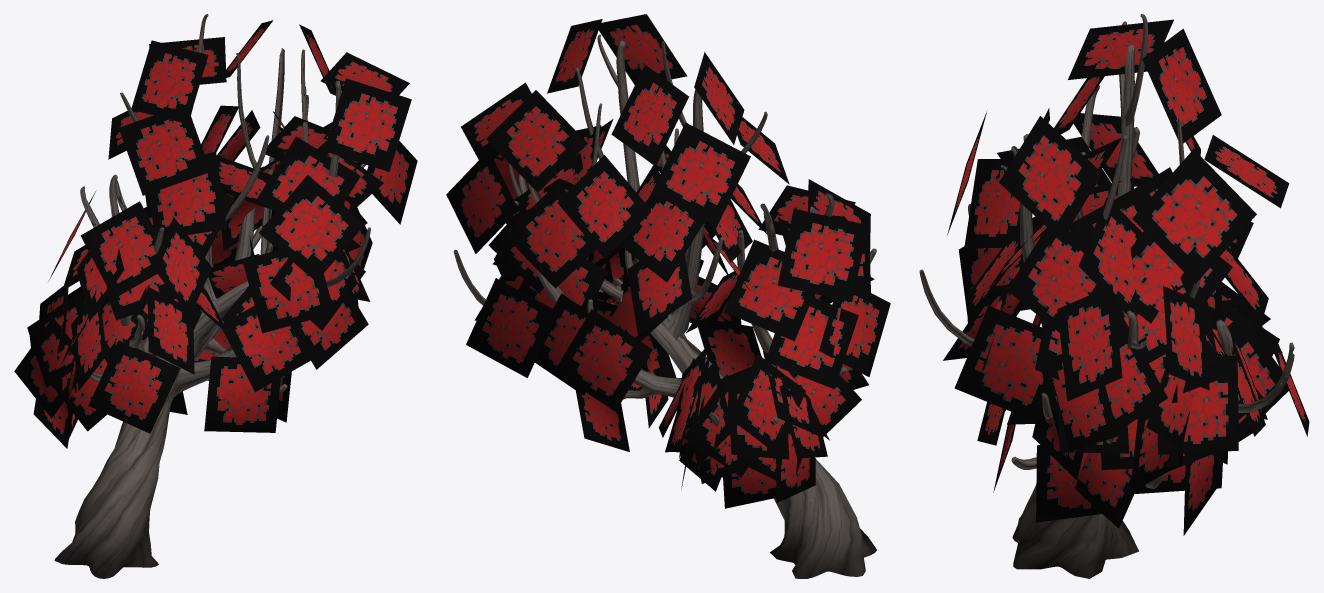
The model's file is arbre-tordu.lod1.glb.
The picture shows the model from 3 angles, left to right: view 1: azimuth 30°, elevation 25°; view 2: azimuth 150°, elevation 25°; view 3: azimuth 270°, elevation 25°; orthographic projection. The views are drawn at different scales.
Parts seen in each view (by area): view 1: TwistedTree_1; view 2: TwistedTree_1; view 3: TwistedTree_1.
Boxes of the visible parts, left/top/right/bottom form: TwistedTree_1: left=14, top=14, right=417, bottom=578; TwistedTree_1: left=446, top=14, right=890, bottom=578; TwistedTree_1: left=919, top=14, right=1309, bottom=578.
Bounding box in the file's own units: 12.42 × 15.48 × 8.89.
2 materials, 2 textured.
